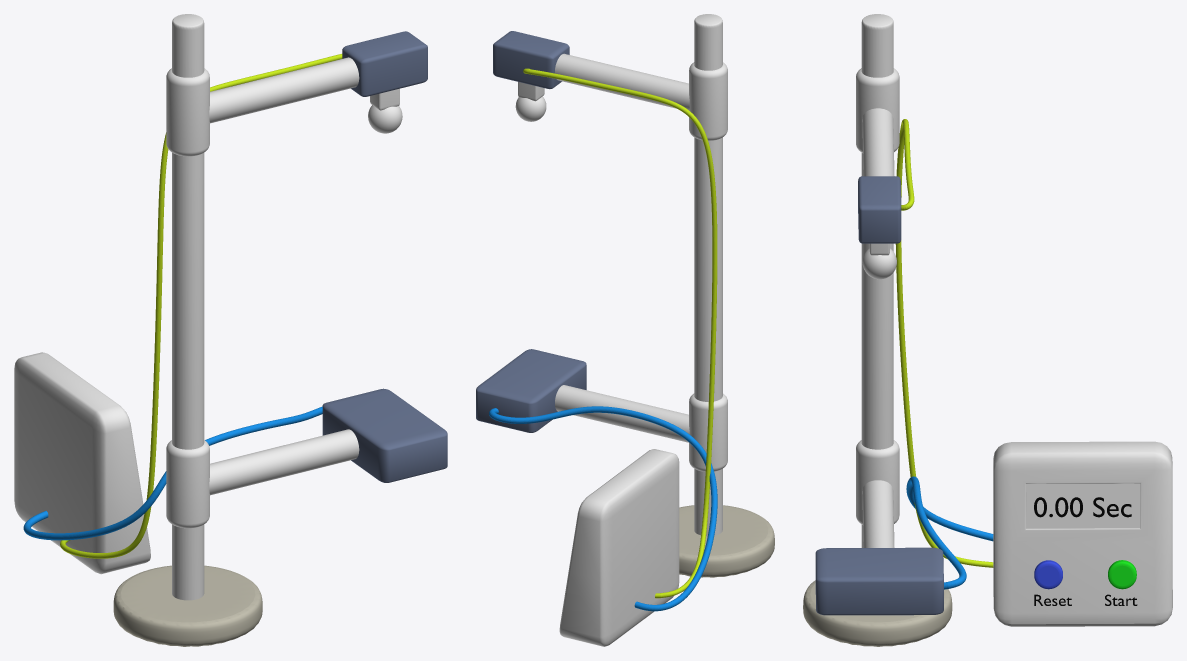
Rendered from device.fbx.
3 views of the same model, side by side, from view 1: azimuth 30°, elevation 25°; view 2: azimuth 150°, elevation 25°; view 3: azimuth 270°, elevation 25° (orthographic). The views are drawn at different scales.
Parts seen in each view (by area): view 1: Cube.001, Cylinder, Cylinder.005, Cube.002, Cylinder.003, Cylinder.004, Cube, Cylinder.008, Cylinder.001, Cylinder.002, Cylinder.009, Sphere; view 2: Cube.001, Cylinder, Cube.002, Cylinder.005, Cylinder.008, Cylinder.003, Cylinder.004, Cube, Cylinder.009, Cylinder.001, Cylinder.002, Sphere; view 3: Cube.001, Cube.002, Cylinder, Cylinder.005, Cube, Cylinder.008, Cylinder.001, Cylinder.002, Cylinder.003, Cylinder.004, Cylinder.009, Sphere (+3 smaller).
Part boxes in pixels (<box>): Cube.001: <box>14,352,150,574</box>; Cylinder: <box>172,14,204,600</box>; Cylinder.005: <box>113,565,262,646</box>; Cube.002: <box>322,388,447,482</box>; Cylinder.003: <box>209,57,359,123</box>; Cylinder.004: <box>209,429,359,495</box>; Cube: <box>342,31,427,96</box>; Cylinder.008: <box>60,54,342,558</box>; Cylinder.001: <box>166,68,209,156</box>; Cylinder.002: <box>166,440,209,528</box>; Cylinder.009: <box>23,406,322,540</box>; Sphere: <box>368,105,402,133</box>; Cube.001: <box>559,449,679,646</box>; Cylinder: <box>694,14,722,536</box>; Cube.002: <box>476,349,586,432</box>; Cylinder.005: <box>679,505,774,577</box>; Cylinder.008: <box>523,68,717,598</box>; Cylinder.003: <box>555,53,689,109</box>; Cylinder.004: <box>555,385,689,442</box>; Cube: <box>493,31,569,89</box>; Cylinder.009: <box>489,406,717,611</box>; Cylinder.001: <box>689,62,727,140</box>; Cylinder.002: <box>689,393,727,471</box>; Sphere: <box>515,96,546,121</box>; Cube.001: <box>993,441,1172,626</box>; Cube.002: <box>815,547,943,615</box>; Cylinder: <box>861,14,893,547</box>; Cylinder.005: <box>803,580,952,646</box>; Cube: <box>858,176,901,243</box>; Cylinder.008: <box>895,119,993,567</box>; Cylinder.001: <box>856,68,899,152</box>; Cylinder.002: <box>856,440,899,524</box>; Cylinder.003: <box>862,108,894,176</box>; Cylinder.004: <box>862,480,894,547</box>; Cylinder.009: <box>906,476,993,589</box>; Sphere: <box>862,248,896,279</box>.
Bounding box in the file's own units: 131 × 251 × 140.
